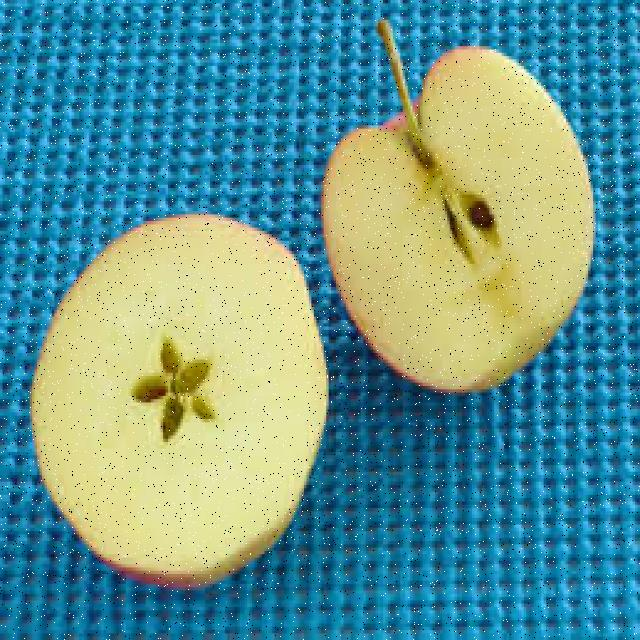Apple: (27, 204, 322, 592), (320, 23, 598, 399)
